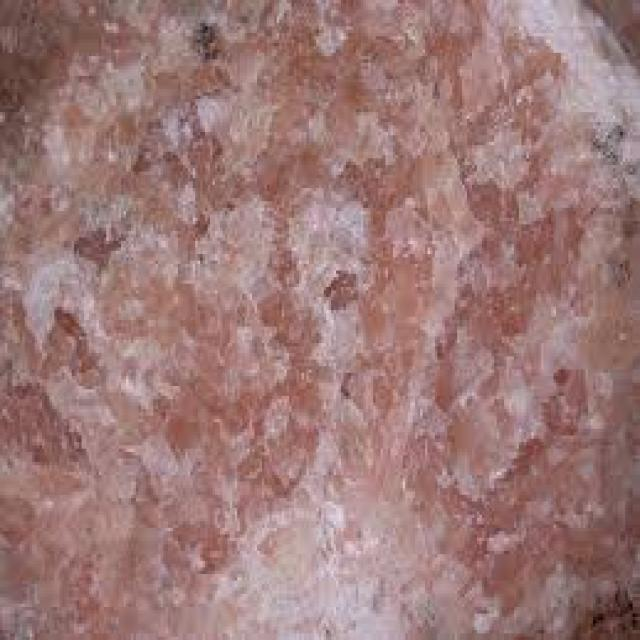Metamorphic: (3, 10, 635, 633)
